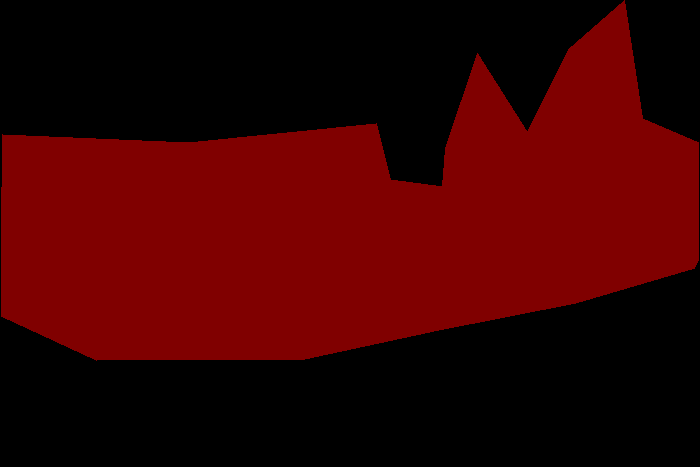fire: (1, 0, 698, 360)
